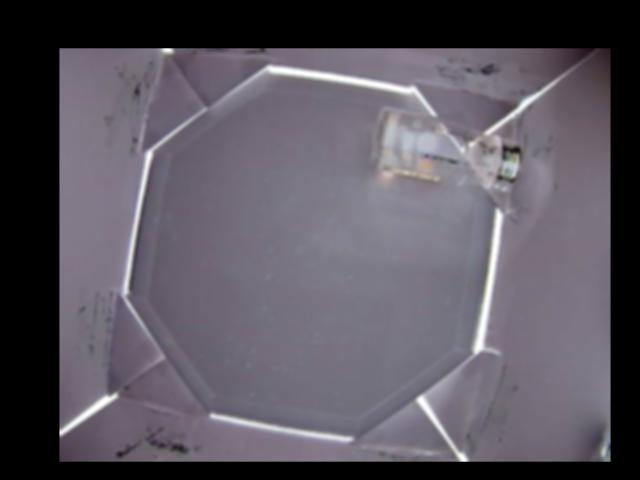Bottle: (370, 109, 523, 190)
